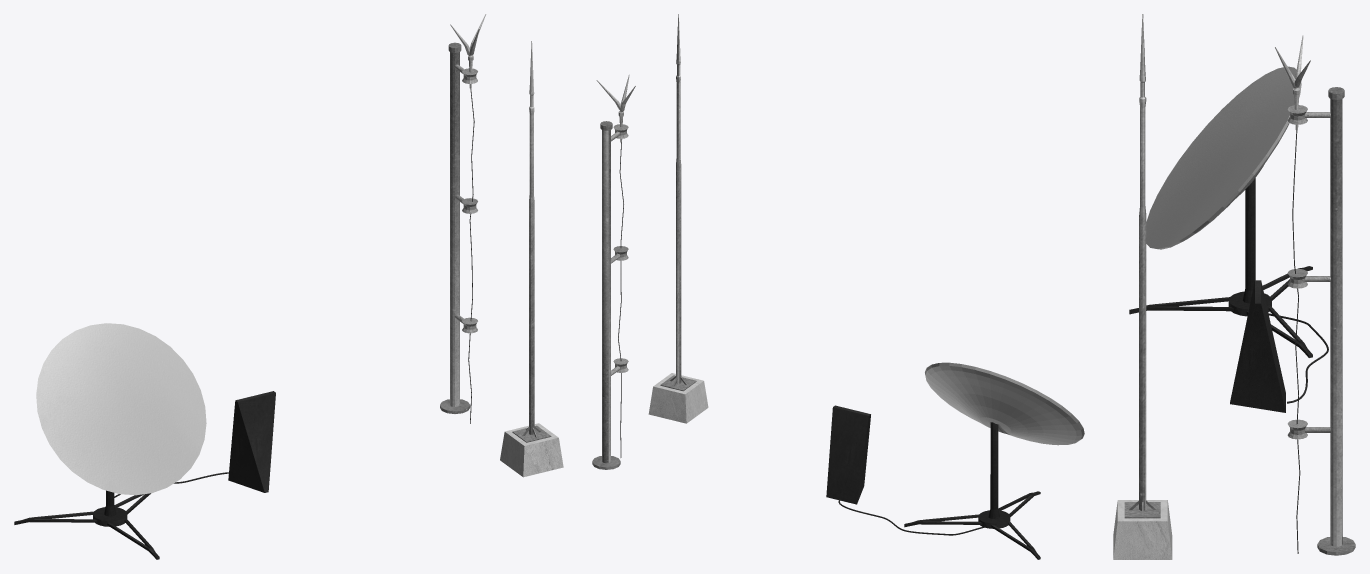
Rendered from Roof_Deco_Collection.fbx.
3 renders of one model, left to right at view 1: azimuth 30°, elevation 25°; view 2: azimuth 150°, elevation 25°; view 3: azimuth 270°, elevation 25°, orthographic. The views are drawn at different scales.
Parts seen in each view (by area): view 1: Roof_Deco_003, Roof_Deco_001, Roof_Deco_002; view 2: Roof_Deco_003, Roof_Deco_001, Roof_Deco_002; view 3: Roof_Deco_003, Roof_Deco_001, Roof_Deco_002.
Part boxes in pixels (bbox=[...]): Roof_Deco_003: bbox=[14, 323, 275, 559]; Roof_Deco_001: bbox=[440, 14, 486, 423]; Roof_Deco_002: bbox=[500, 41, 563, 477]; Roof_Deco_003: bbox=[826, 362, 1084, 559]; Roof_Deco_001: bbox=[592, 74, 635, 469]; Roof_Deco_002: bbox=[648, 14, 708, 423]; Roof_Deco_003: bbox=[1129, 66, 1328, 412]; Roof_Deco_001: bbox=[1275, 35, 1355, 555]; Roof_Deco_002: bbox=[1113, 14, 1172, 559].
Size of the model in its own units: 366 by 312 by 127.
Materials: 2 (2 with a texture image).
